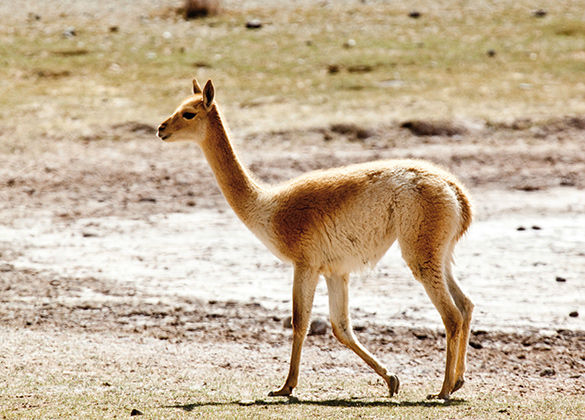eye: (182, 104, 208, 125)
mouth: (153, 128, 175, 146)
